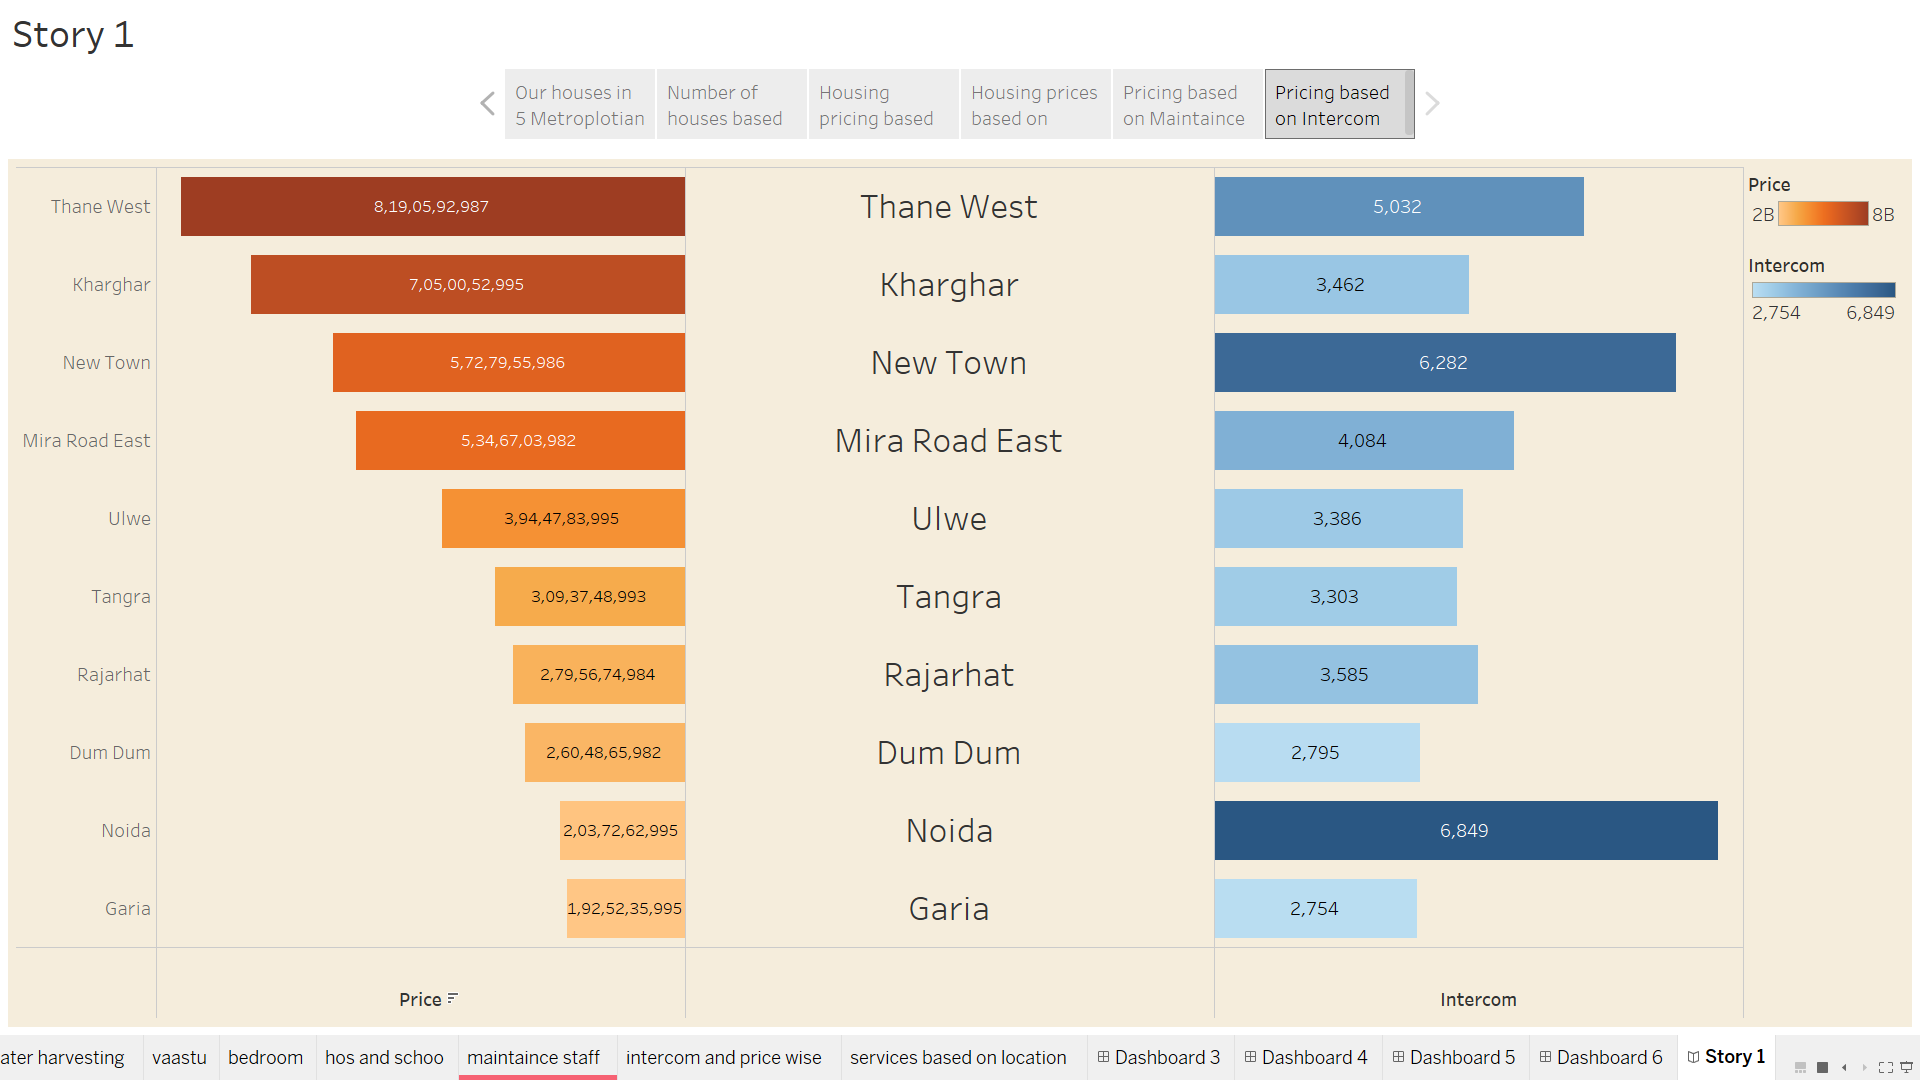

Layout of this report page (visuals, bound fields, positions):
{"tool":"tableau","page":{"name":"Dashboard 6","canvas":[1500,900],"ordinal":3},"visuals":[{"type":"worksheet","title":"intercom and price wise","mark":"Automatic","rows":["Location"],"cols":["Price","Calculation_779404214167334912","Intercom"],"box":[8,8,1484,884]}]}

Visuals, with their boxes on the page's 1500x900 design canvas (x1, y1, x2, y2). These are canvas units, not pixel positions in the 1920x1080 screenshot, which may show the page scaled, cropped or inside an application window:
"intercom and price wise" worksheet: (left=8, top=8, right=1492, bottom=892)
